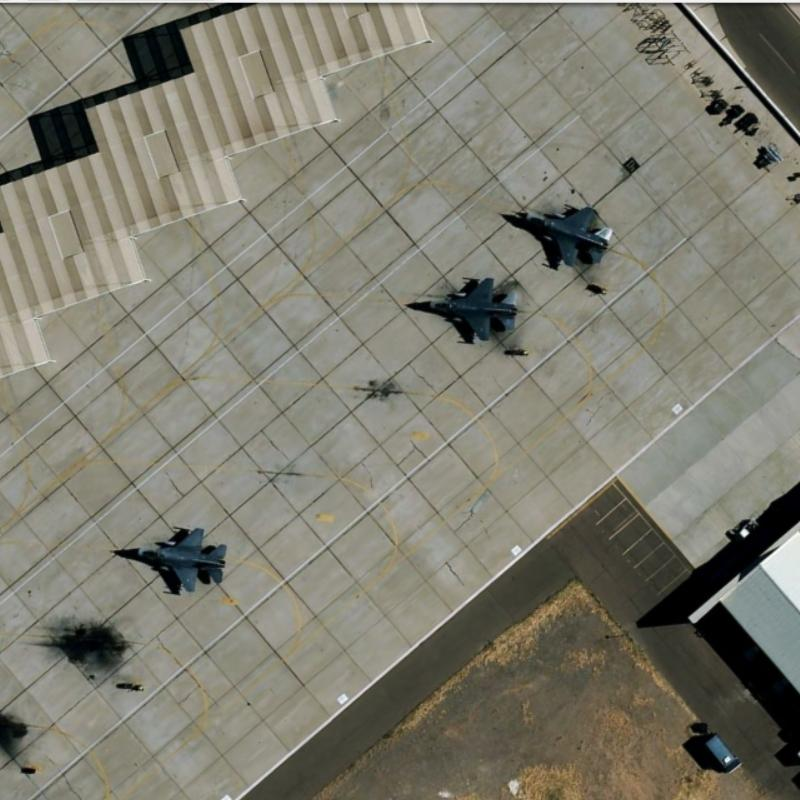A5: (398, 269, 523, 347), (501, 191, 618, 274), (105, 522, 233, 591)
